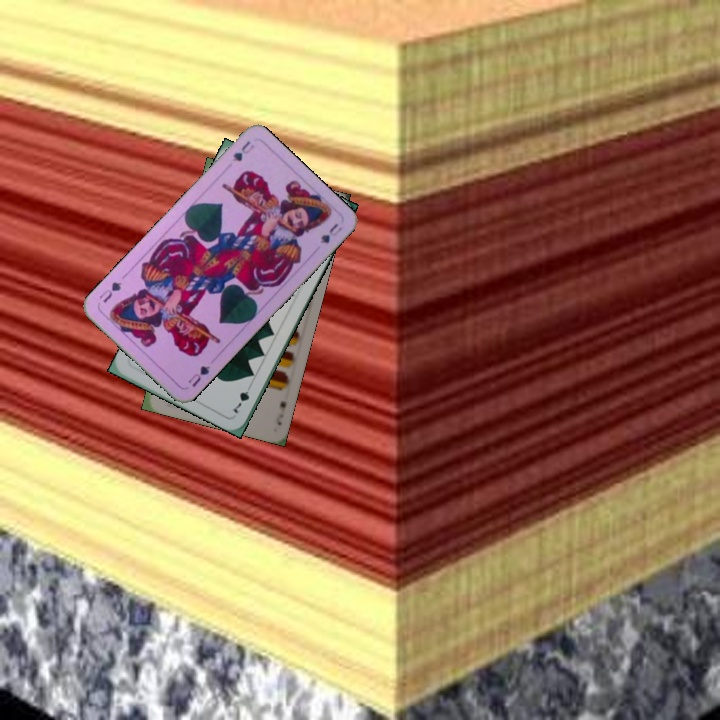E7: (272, 397, 289, 428)
G7: (229, 379, 254, 416)
GU: (184, 359, 213, 390), (228, 136, 257, 164)
